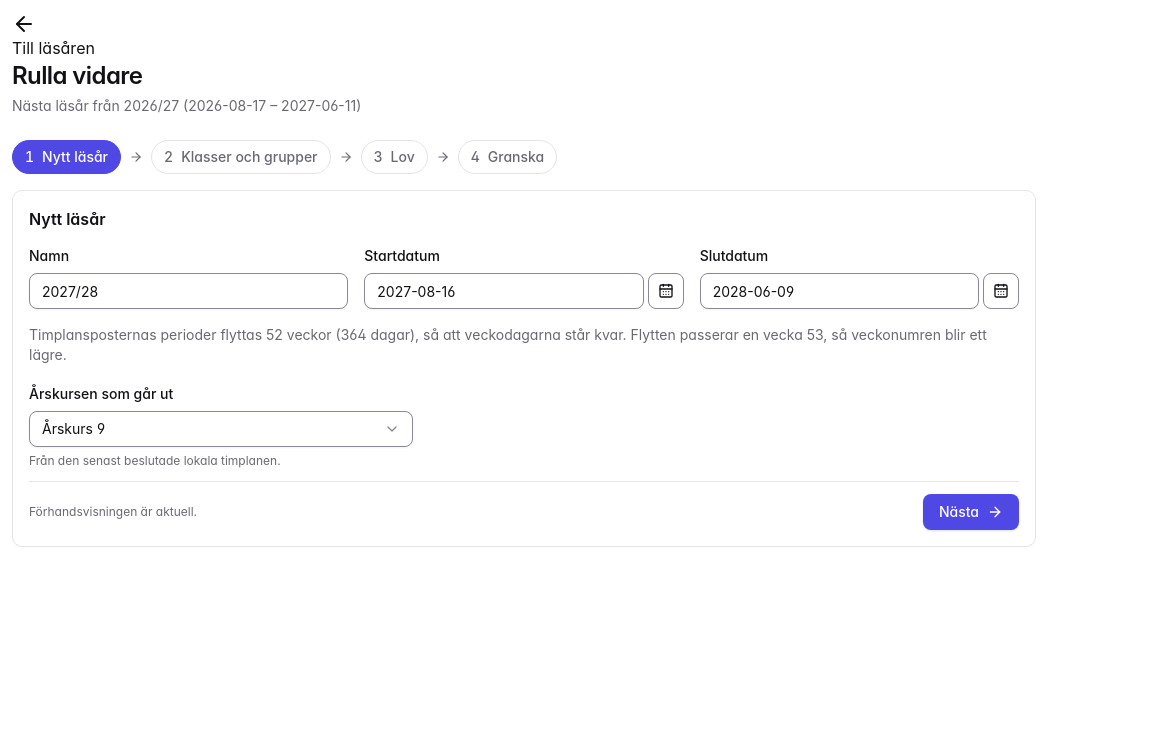
Scenario: RolloverWizard › says in the review when a grade keeps this year's plan, and names a later-decided plan the default skipped
Step 1. Click the button "4 Granska" → x=508, y=157, box [458,140,557,174]
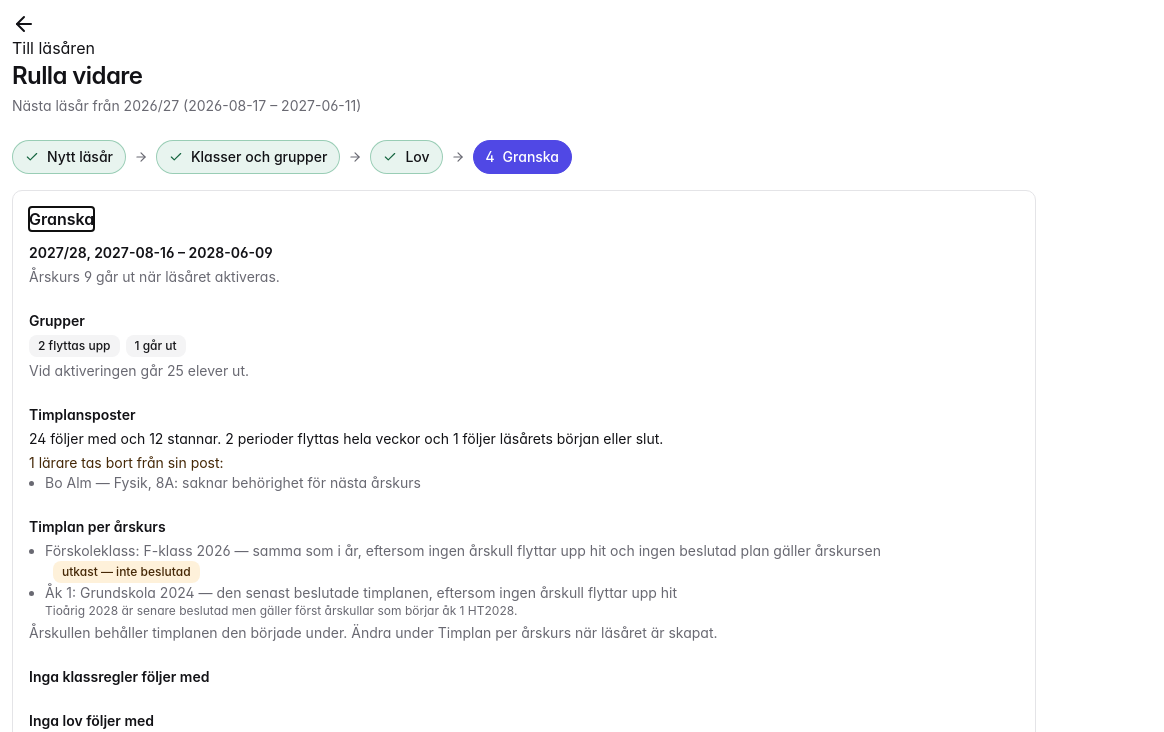
Result: the list items read "Förskoleklass: F-klass 2026 — samma som i år, eftersom ingen årskull flyttar upp hit och ingen beslutad plan gäller årskursenutkast — inte beslutad", "Åk 1: Grundskola 2024 — den senast beslutade timplanen, eftersom ingen årskull flyttar upp hitTioårig 2028 är senare beslutad men gäller först årskullar som bör", in this order at [45,541,1019,583]; [45,584,677,618]
